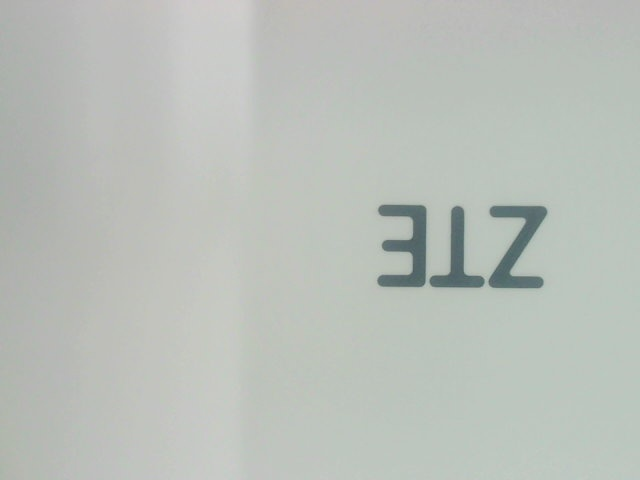AN_ZTELarge: (361, 187, 558, 305)
